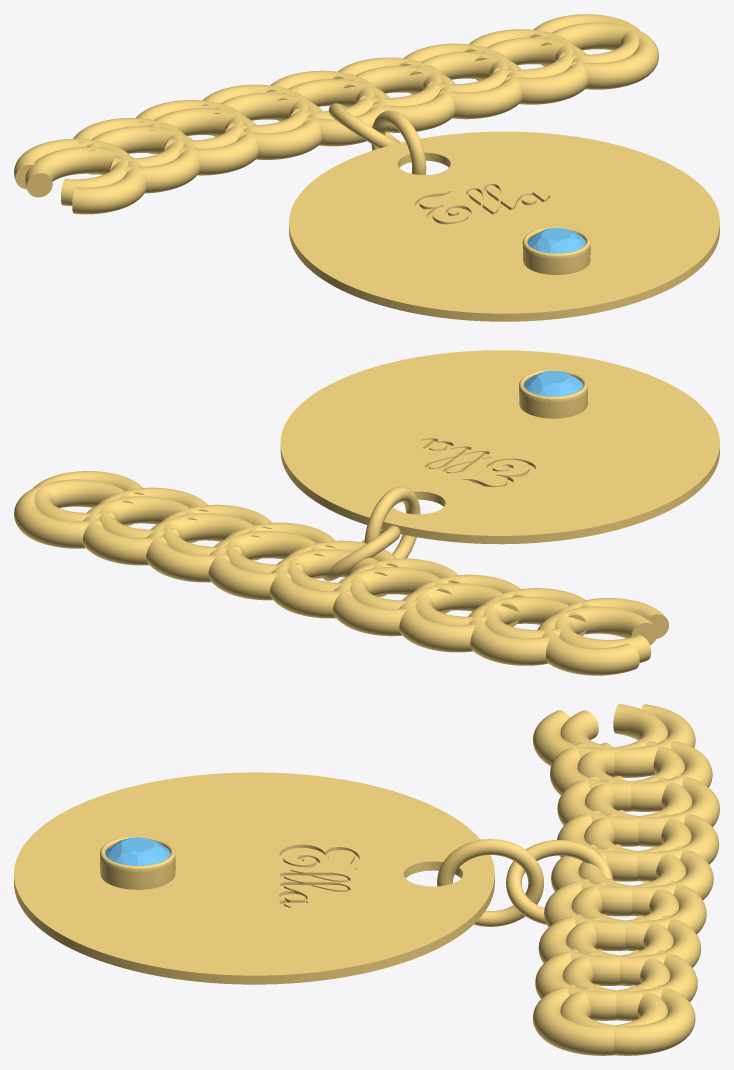
The model's file is Leslie_charm_YG_blender.glb.
The picture shows the model from 3 angles, top to bottom: view 1: azimuth 30°, elevation 25°; view 2: azimuth 150°, elevation 25°; view 3: azimuth 270°, elevation 25°; orthographic projection. The views are drawn at different scales.
Visible parts, largest first — view 1: Leslie YG for 3d model, Leslie topaz for 3d model; view 2: Leslie YG for 3d model, Leslie topaz for 3d model; view 3: Leslie YG for 3d model, Leslie topaz for 3d model.
Boxes of the visible parts, left/top/right/bottom form: Leslie YG for 3d model: left=14, top=14, right=719, bottom=321; Leslie topaz for 3d model: left=527, top=228, right=585, bottom=253; Leslie YG for 3d model: left=14, top=350, right=719, bottom=675; Leslie topaz for 3d model: left=523, top=370, right=583, bottom=396; Leslie YG for 3d model: left=14, top=704, right=719, bottom=1055; Leslie topaz for 3d model: left=105, top=837, right=170, bottom=865.
Size of the model in its own units: 39.96 by 4.81 by 35.62.
